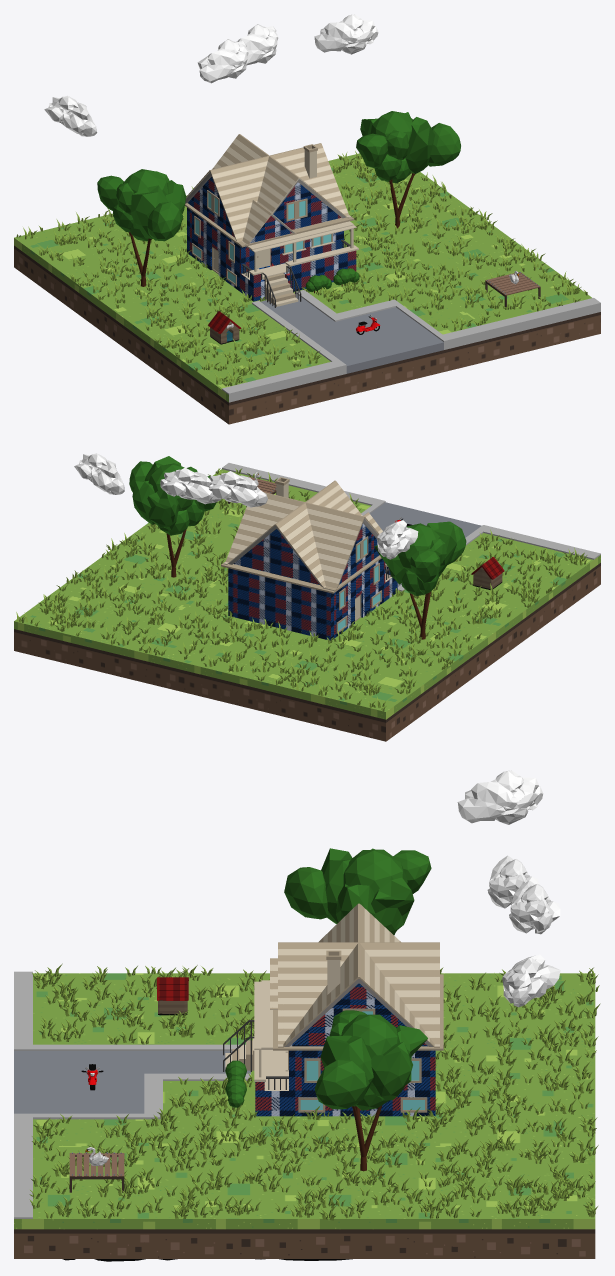
The picture shows the model from 3 angles, top to bottom: view 1: azimuth 30°, elevation 25°; view 2: azimuth 150°, elevation 25°; view 3: azimuth 270°, elevation 25°; orthographic projection. The views are drawn at different scales.
Parts seen in each view (by area): view 1: Cube.006, Cube.171, Circle.012_Grass_0.192, Cube.007, tree, tree.001, Cube.009, OBJRANDOM_DOGHOUSE; view 2: Cube.006, Cube.171, Circle.012_Grass_0.192, Cube.007, tree.001, tree, OBJRANDOM_DOGHOUSE; view 3: Cube.006, Circle.012_Grass_0.192, Cube.171, tree, Cube.007, tree.001, Cube.009, OBJRANDOM_DOGHOUSE.
Boxes of the visible parts, left/top/right/bottom form: Cube.006: left=14, top=153, right=600, bottom=424; Cube.171: left=185, top=134, right=358, bottom=307; Circle.012_Grass_0.192: left=16, top=151, right=587, bottom=386; Cube.007: left=44, top=14, right=378, bottom=136; tree: left=356, top=111, right=460, bottom=228; tree.001: left=97, top=169, right=186, bottom=286; Cube.009: left=485, top=272, right=540, bottom=306; OBJRANDOM_DOGHOUSE: left=208, top=311, right=241, bottom=344; Cube.006: left=14, top=463, right=600, bottom=741; Cube.171: left=221, top=477, right=397, bottom=640; Circle.012_Grass_0.192: left=16, top=468, right=587, bottom=711; Cube.007: left=74, top=453, right=418, bottom=559; tree.001: left=374, top=521, right=466, bottom=639; tree: left=129, top=456, right=216, bottom=577; OBJRANDOM_DOGHOUSE: left=471, top=557, right=504, bottom=589; Cube.006: left=14, top=971, right=595, bottom=1258; Circle.012_Grass_0.192: left=29, top=963, right=600, bottom=1220; Cube.171: left=223, top=903, right=443, bottom=1116; tree: left=314, top=1010, right=427, bottom=1171; Cube.007: left=457, top=770, right=560, bottom=1007; tree.001: left=284, top=848, right=431, bottom=935; Cube.009: left=69, top=1152, right=124, bottom=1192; OBJRANDOM_DOGHOUSE: left=156, top=977, right=188, bottom=1015.
Size of the model in its own units: 4071 by 2149 by 4040.
35 materials, 4 textured.
